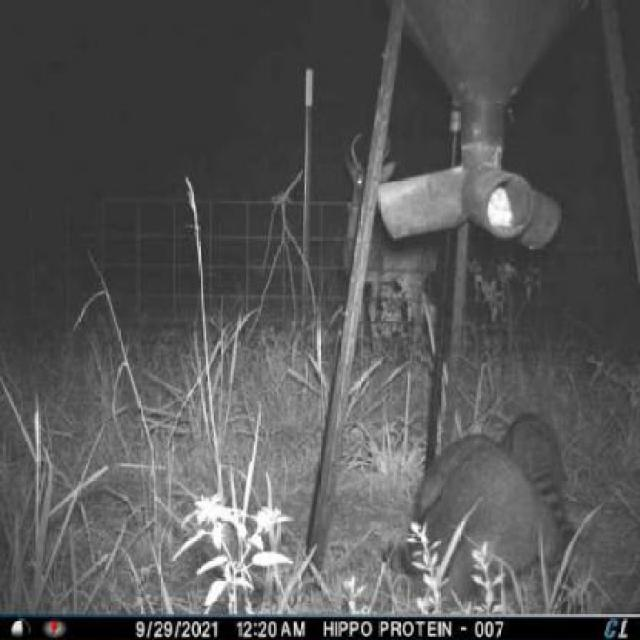Deer: (334, 122, 449, 346)
